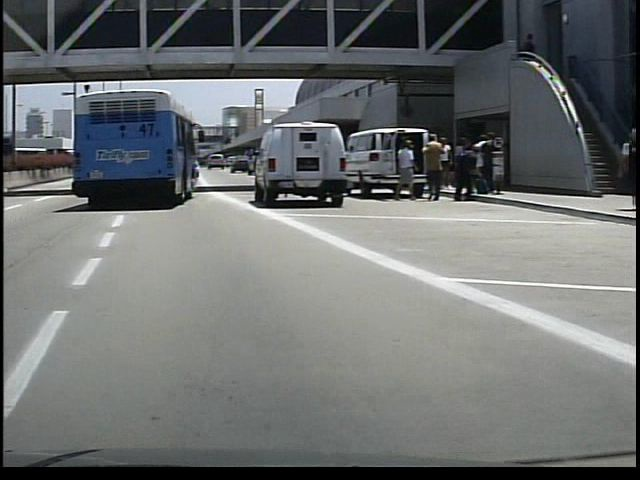person: (415, 130, 441, 202), (389, 133, 413, 200)
